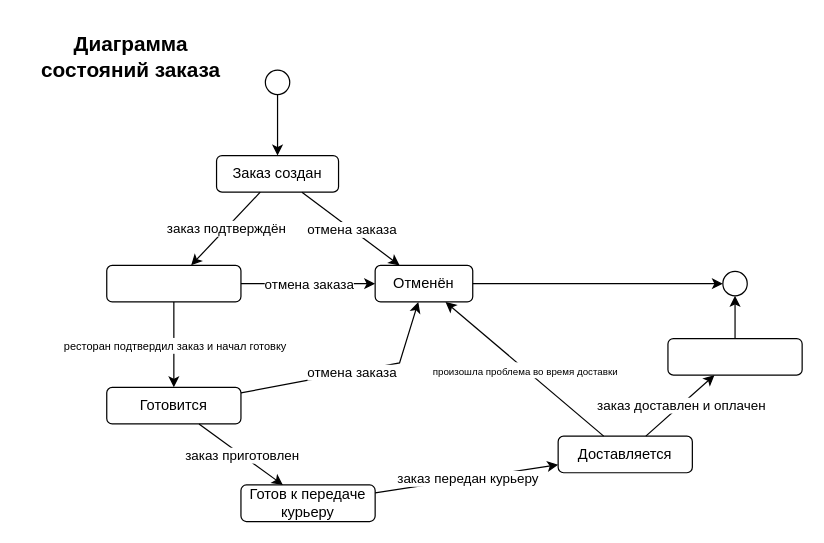
Image size: 824x543. Some labels were removed from this diagram. Here are the shapes that lost their labels. From the top down, the centre of each, then its label:
At point 173,283: "Передан в ресторан".
At point 734,356: "Завершён".
